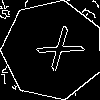X: (27, 25, 85, 79)
